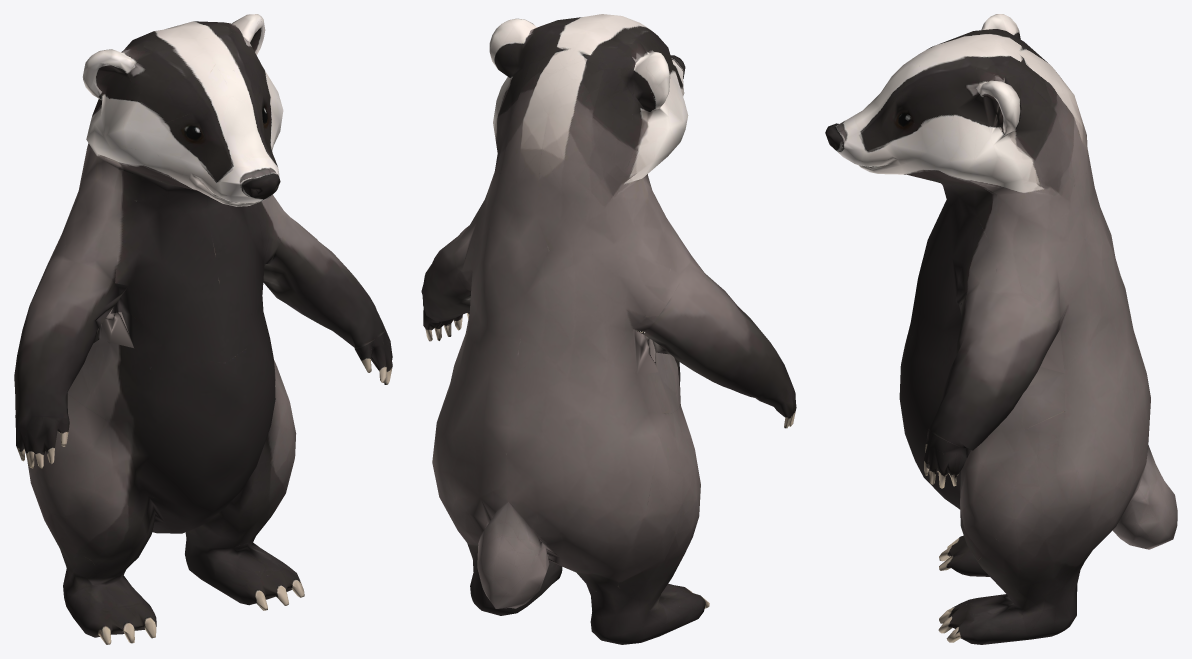
The model's file is badger-arms-pit.glb.
The picture shows the model from 3 angles, left to right: view 1: azimuth 30°, elevation 25°; view 2: azimuth 150°, elevation 25°; view 3: azimuth 270°, elevation 25°; orthographic projection. The views are drawn at different scales.
Parts seen in each view (by area): view 1: badgeredit; view 2: badgeredit; view 3: badgeredit.
Part boxes in pixels (box(x1,y1,x2,y2)): badgeredit: box(14, 14, 392, 644); badgeredit: box(421, 14, 796, 644); badgeredit: box(825, 14, 1177, 644).
Size of the model in its own units: 1.29 by 1.9 by 1.1.
Materials: 1 (1 with a texture image).
